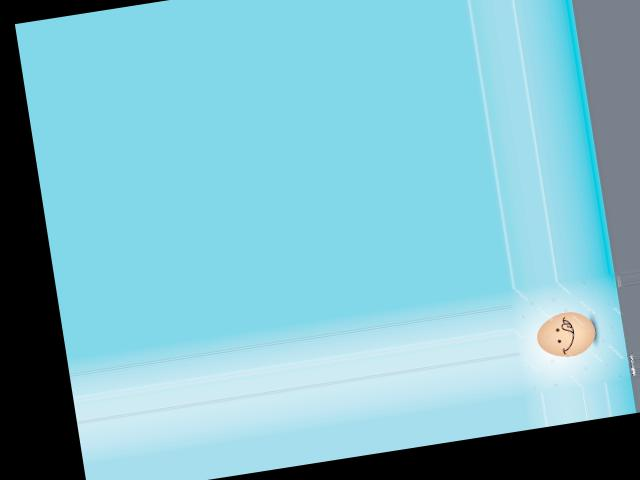egg: (533, 307, 598, 360)
